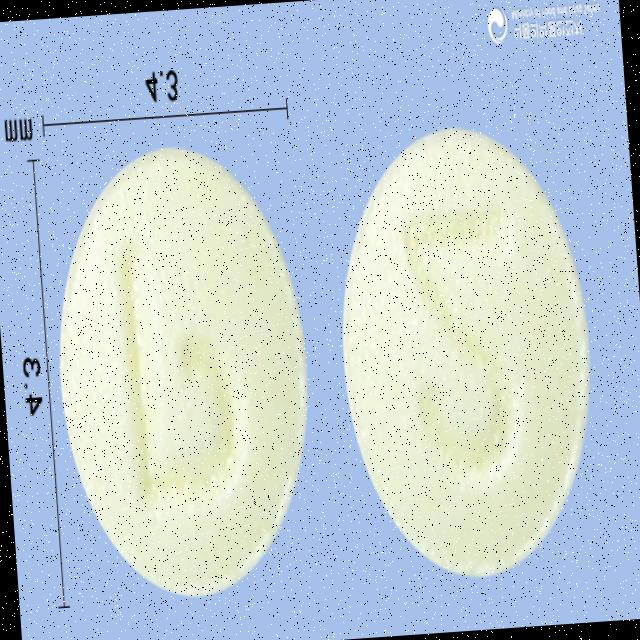Azabio - 25mg: (40, 131, 328, 610), (324, 109, 608, 588)
